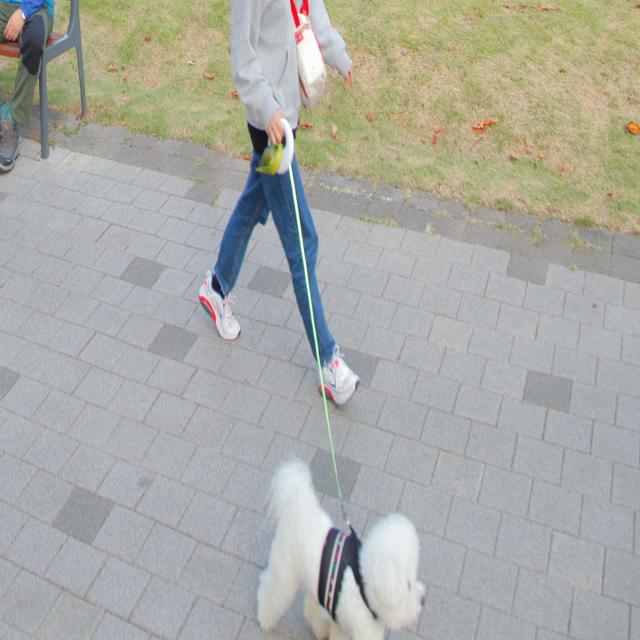Leashed_Dog: (257, 111, 427, 640)
